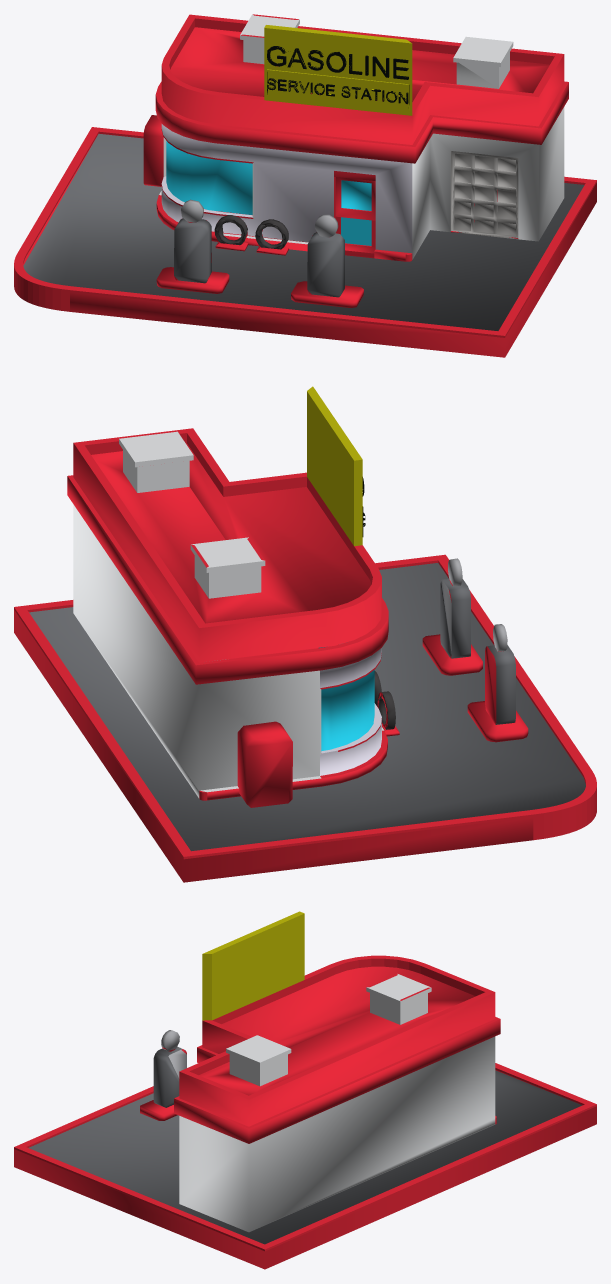
Rendered from gas.glb.
The picture shows the model from 3 angles, top to bottom: view 1: azimuth 30°, elevation 25°; view 2: azimuth 150°, elevation 25°; view 3: azimuth 270°, elevation 25°; orthographic projection. The views are drawn at different scales.
Visible parts, largest first — view 1: gas; view 2: gas; view 3: gas.
Boxes of the visible parts, x1,y1,x2,y2 form: gas: (14,14,596,357); gas: (14,386,596,882); gas: (14,911,596,1269).
Bounding box in the file's own units: 221 × 94.34 × 229.
Materials: 2 (2 with a texture image).
